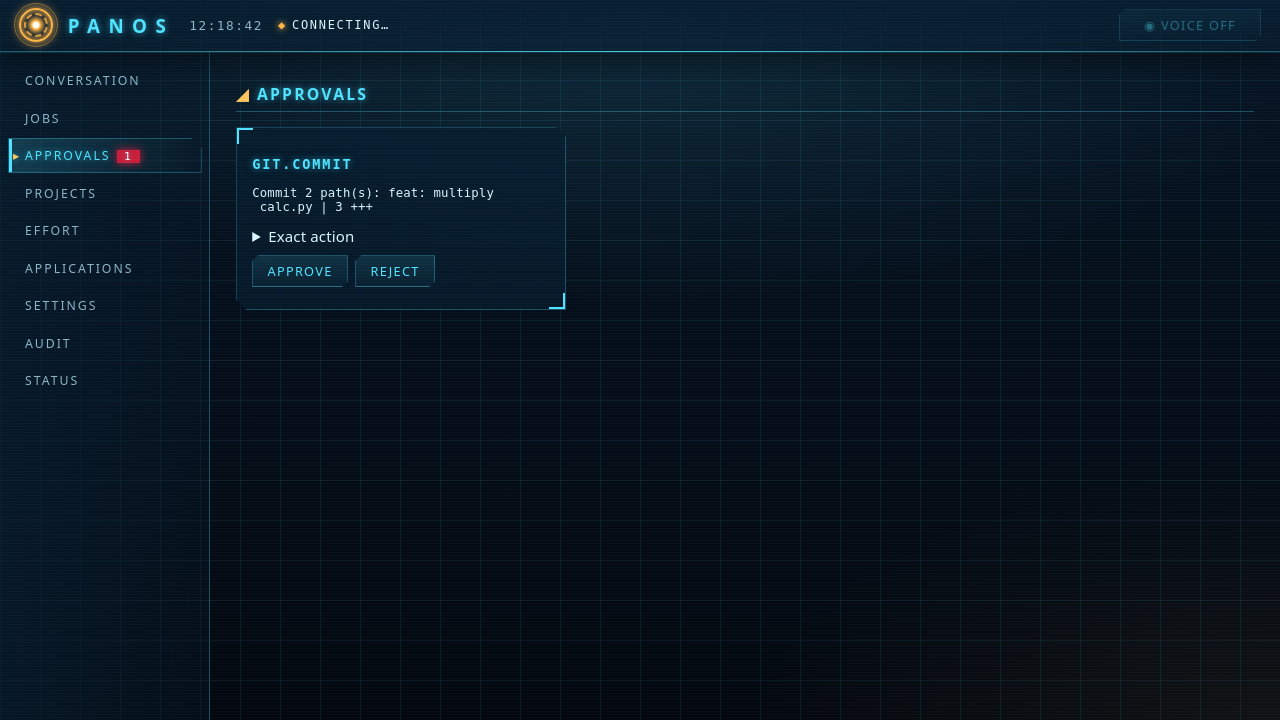
[US-052] jobs and [AC-US040-01] approvals › shows the exact action and approves it
The image size is (1280, 720).
Check: the text "Commit 2 path(s): feat: multiply calc.py | 3 +++" is shown, box [252,186,494,214]
Click the button "Approve". click: (300, 271)
box: [252,255,348,287]
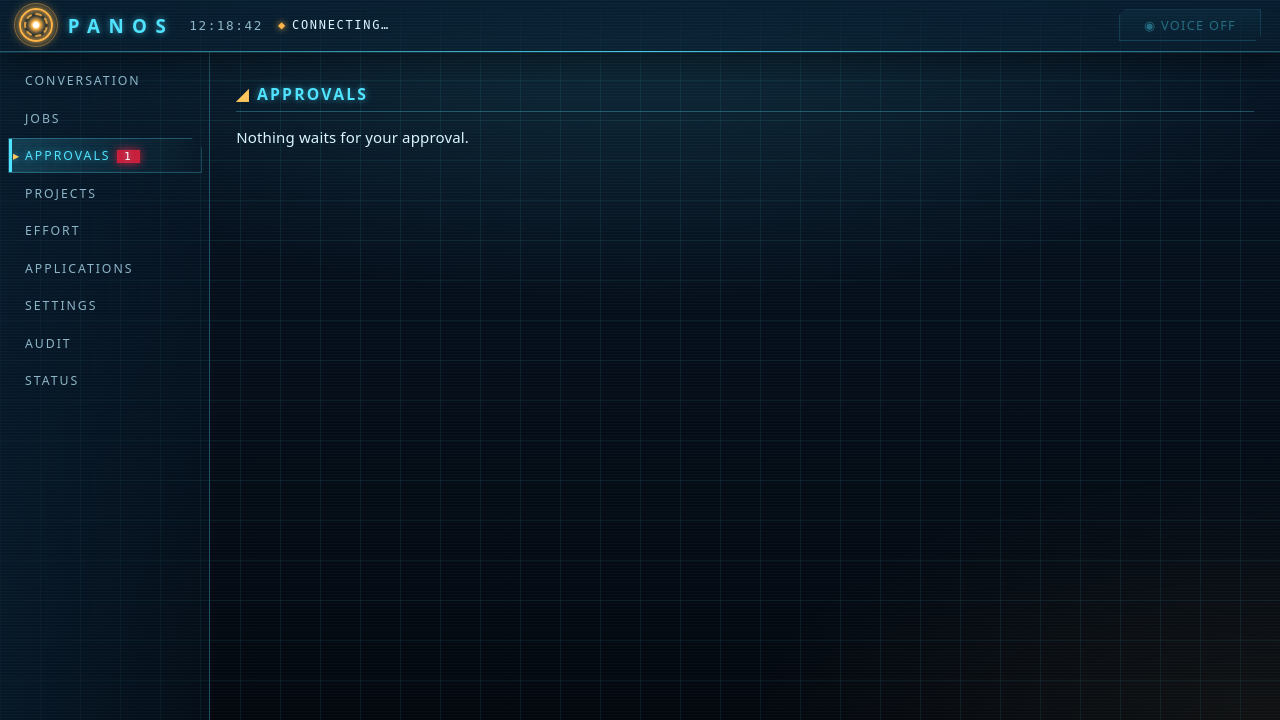
Check: the text "Nothing waits for your approval." is shown, box [236,127,469,147]
